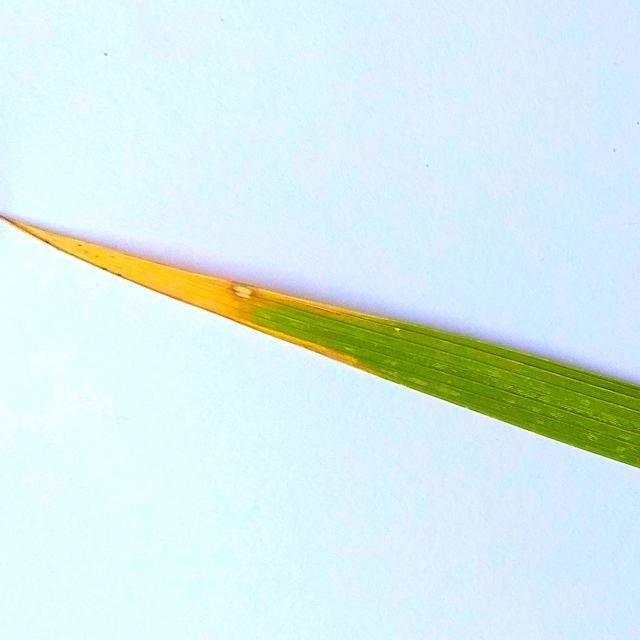Blast: (225, 282, 260, 308)
